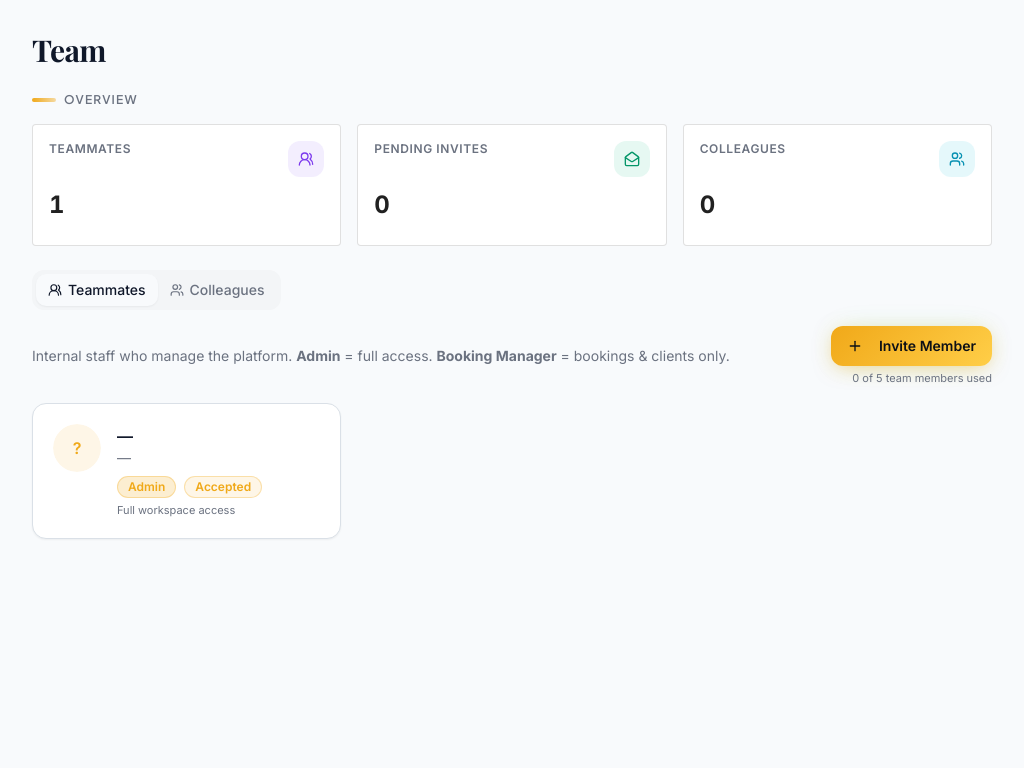
Team › adds a new colleague
Later steps or results of the test are not shown.
Press the mouse on the tab "Colleagues" at (217, 290), box [158, 274, 277, 306]
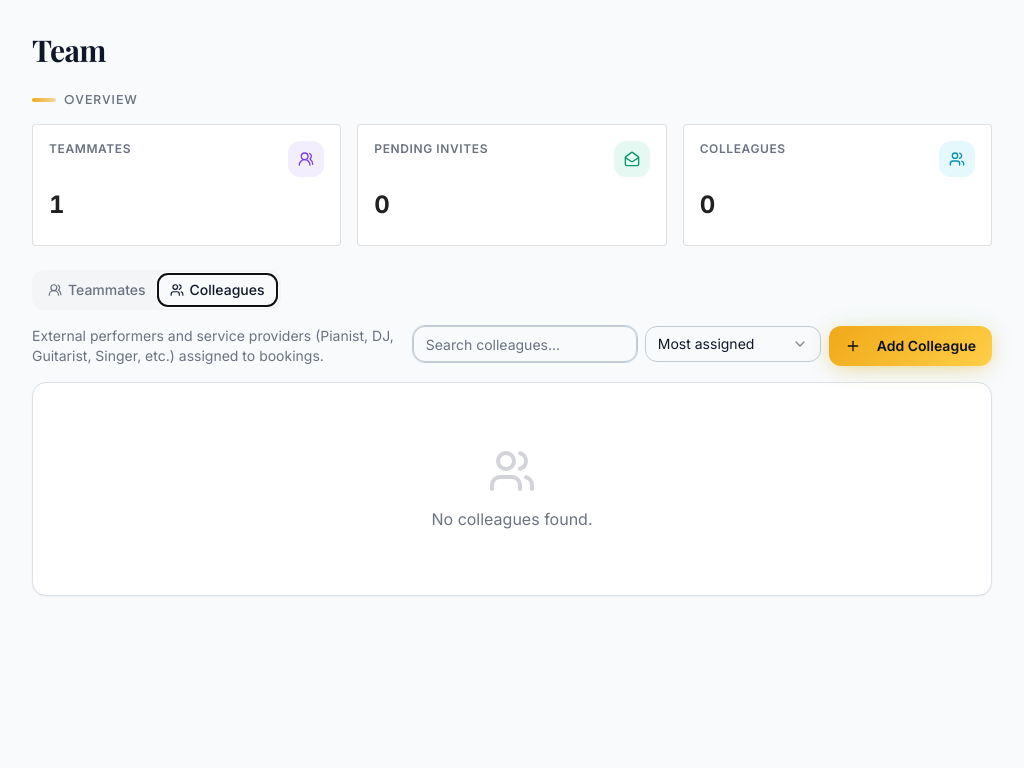
Click the tab "Colleagues" at (217, 290), box [158, 274, 277, 306]
Expected: the text "No colleagues found." is shown, [432, 507, 592, 531]
